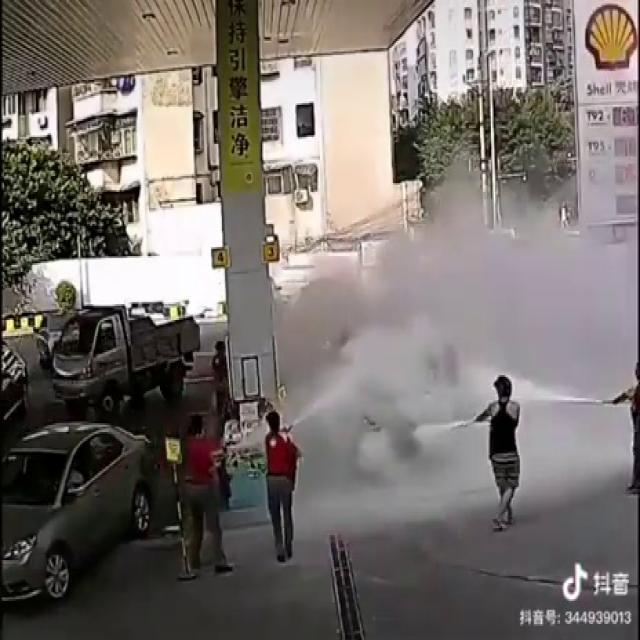Smoke: (284, 149, 637, 514)
